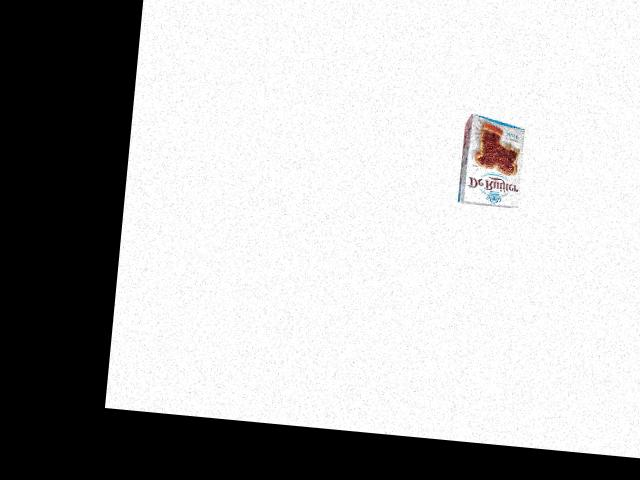chocolate: (448, 114, 534, 214)
